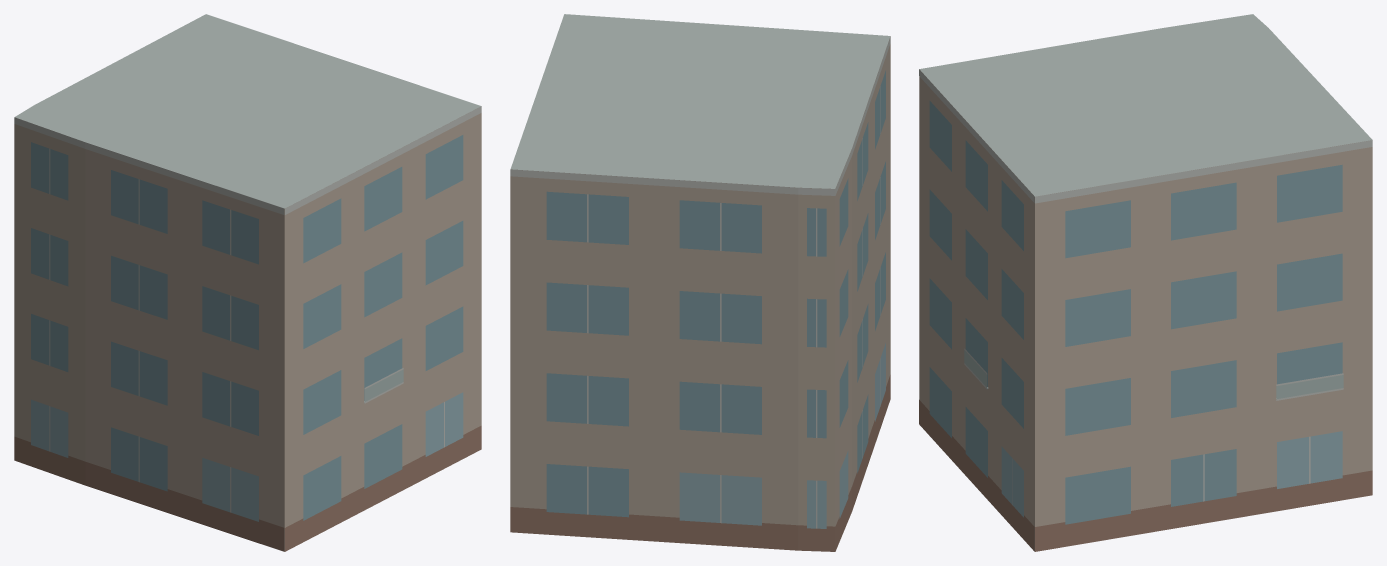
File: survey-upis-32663411.glb
3 renders of one model, left to right at view 1: azimuth 30°, elevation 25°; view 2: azimuth 150°, elevation 25°; view 3: azimuth 270°, elevation 25°, orthographic. The views are drawn at different scales.
Parts seen in each view (by area): view 1: survey-upis-32663411.tmp; view 2: survey-upis-32663411.tmp; view 3: survey-upis-32663411.tmp.
Boxes of the visible parts, left/top/right/bottom form: survey-upis-32663411.tmp: left=14, top=14, right=481, bottom=551; survey-upis-32663411.tmp: left=510, top=14, right=890, bottom=551; survey-upis-32663411.tmp: left=919, top=14, right=1372, bottom=551.
Size of the model in its own units: 13.91 by 12.6 by 14.59.
